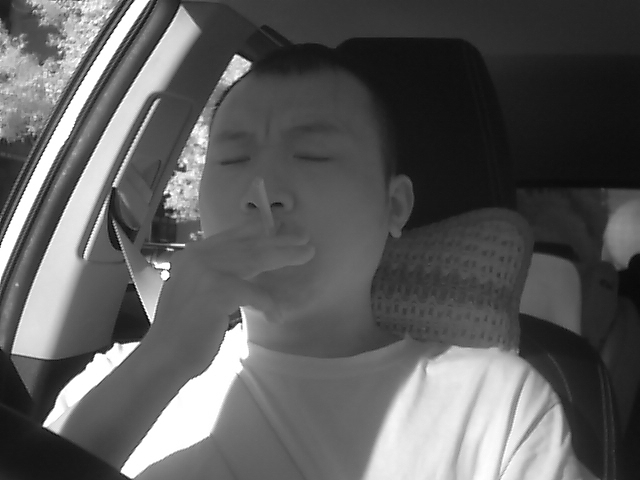hand: (161, 217, 291, 382)
